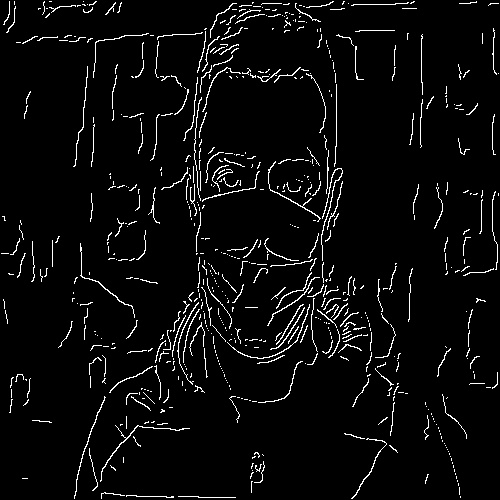mask: (209, 195, 318, 361)
